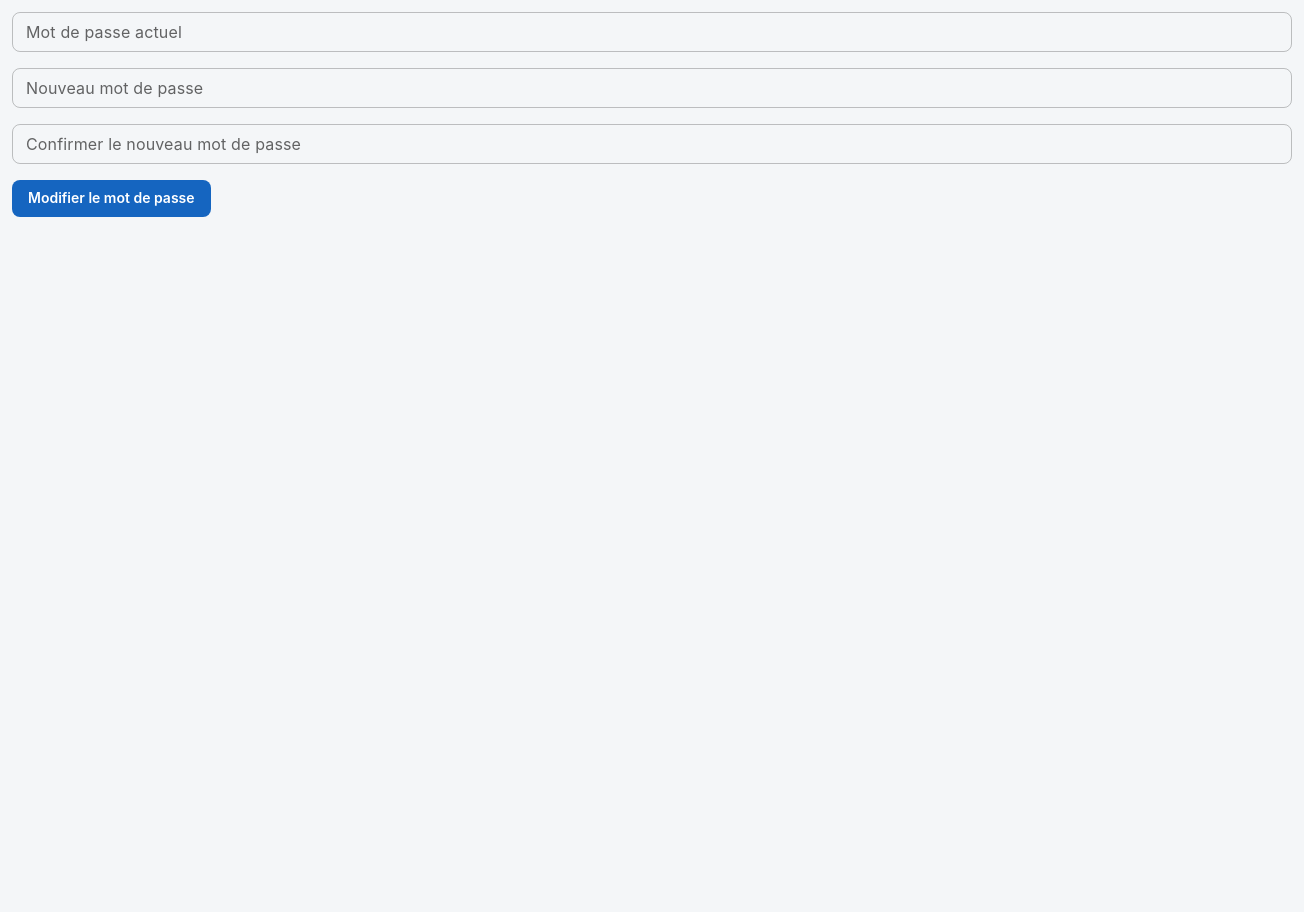
ChangePasswordForm › submits the current and new password, then resets the form on success
Type "OldPassword123" into the password field labelled "Mot de passe actuel" at (652, 32), box x1=12 y1=12 x2=1292 y2=52
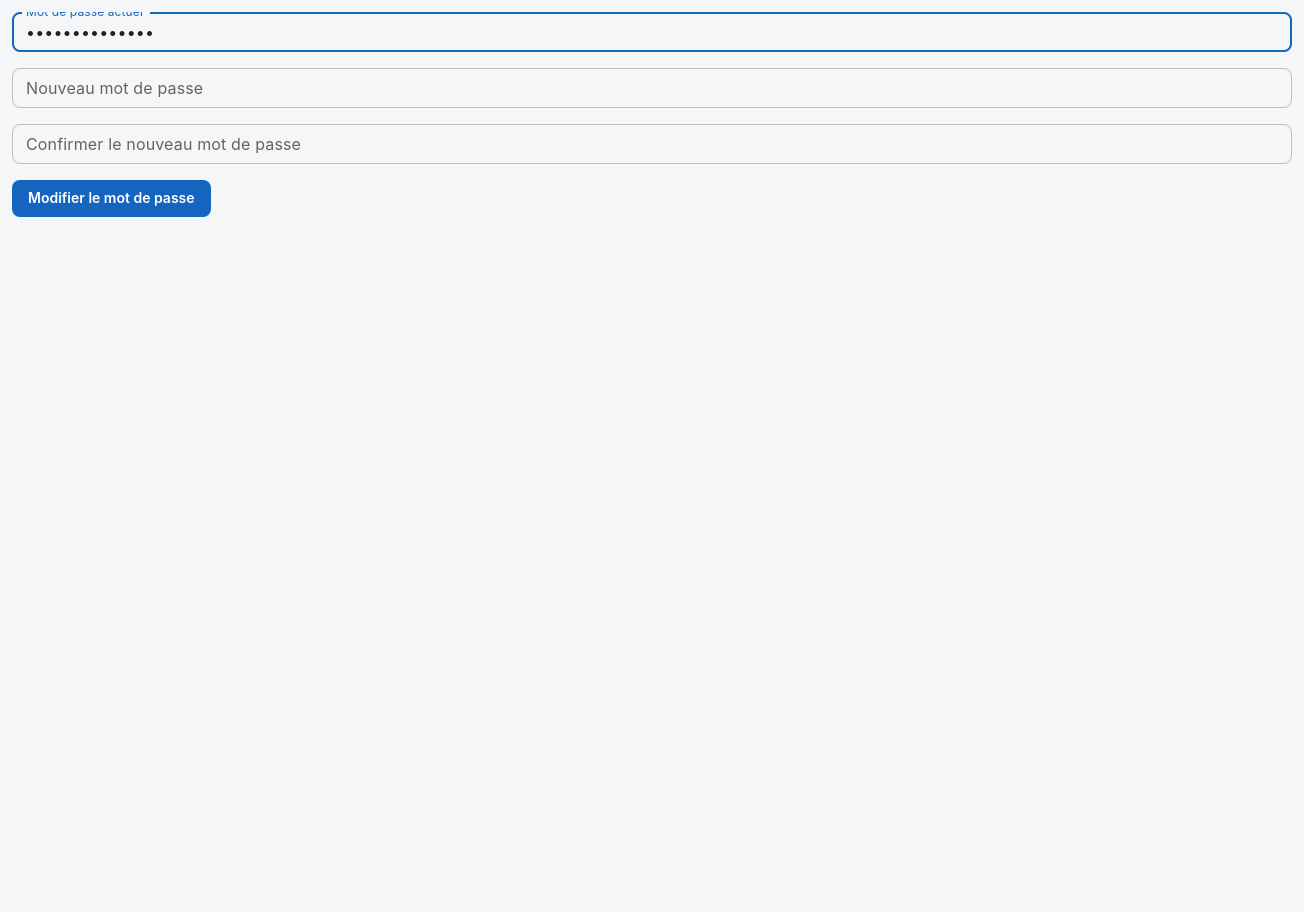
Type "NewValidPassword123" into the password field labelled "Nouveau mot de passe" at (652, 88), box x1=12 y1=68 x2=1292 y2=108
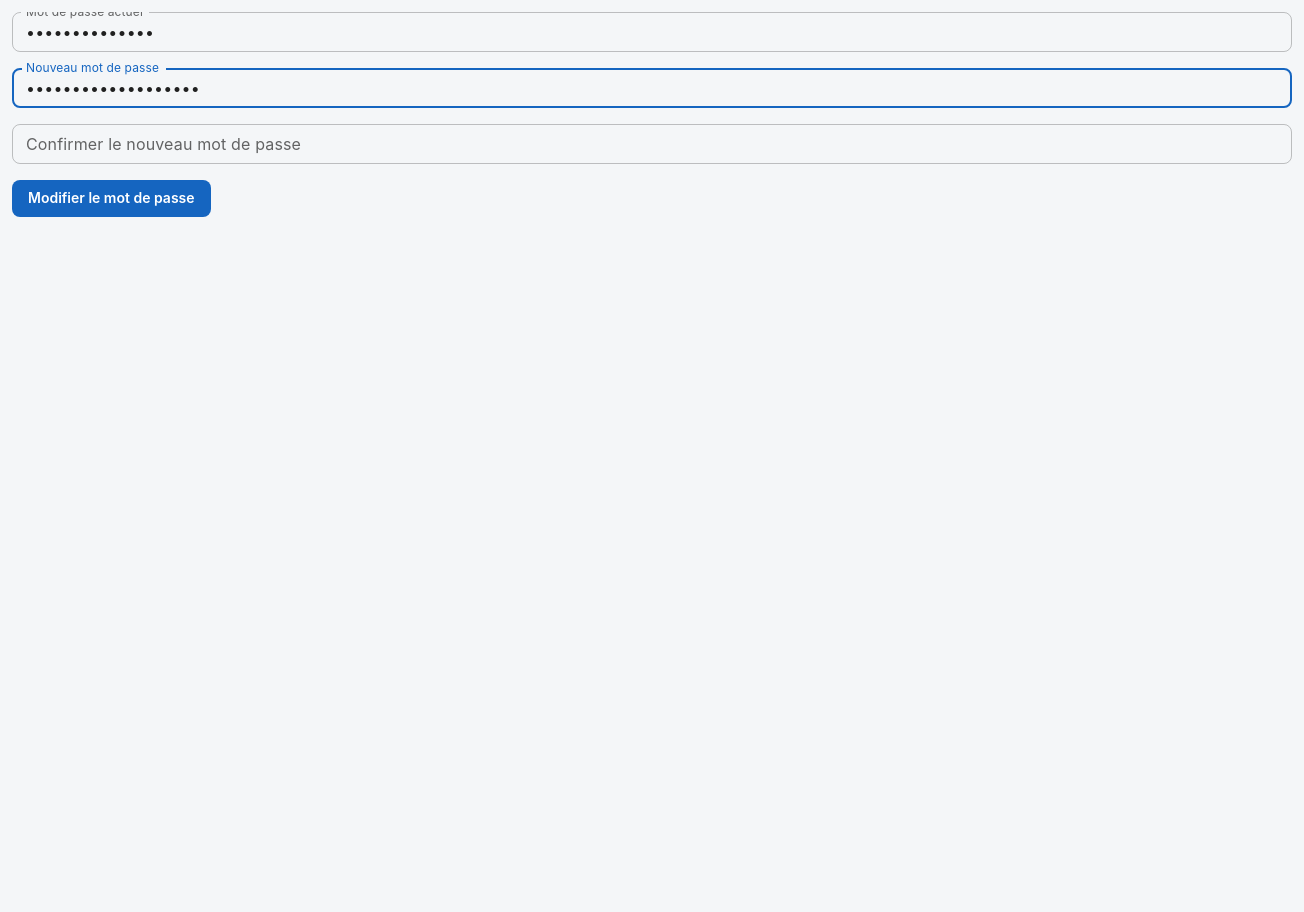
Type "NewValidPassword123" into the password field labelled "Confirmer le nouveau mot de passe" at (652, 144), box x1=12 y1=124 x2=1292 y2=164
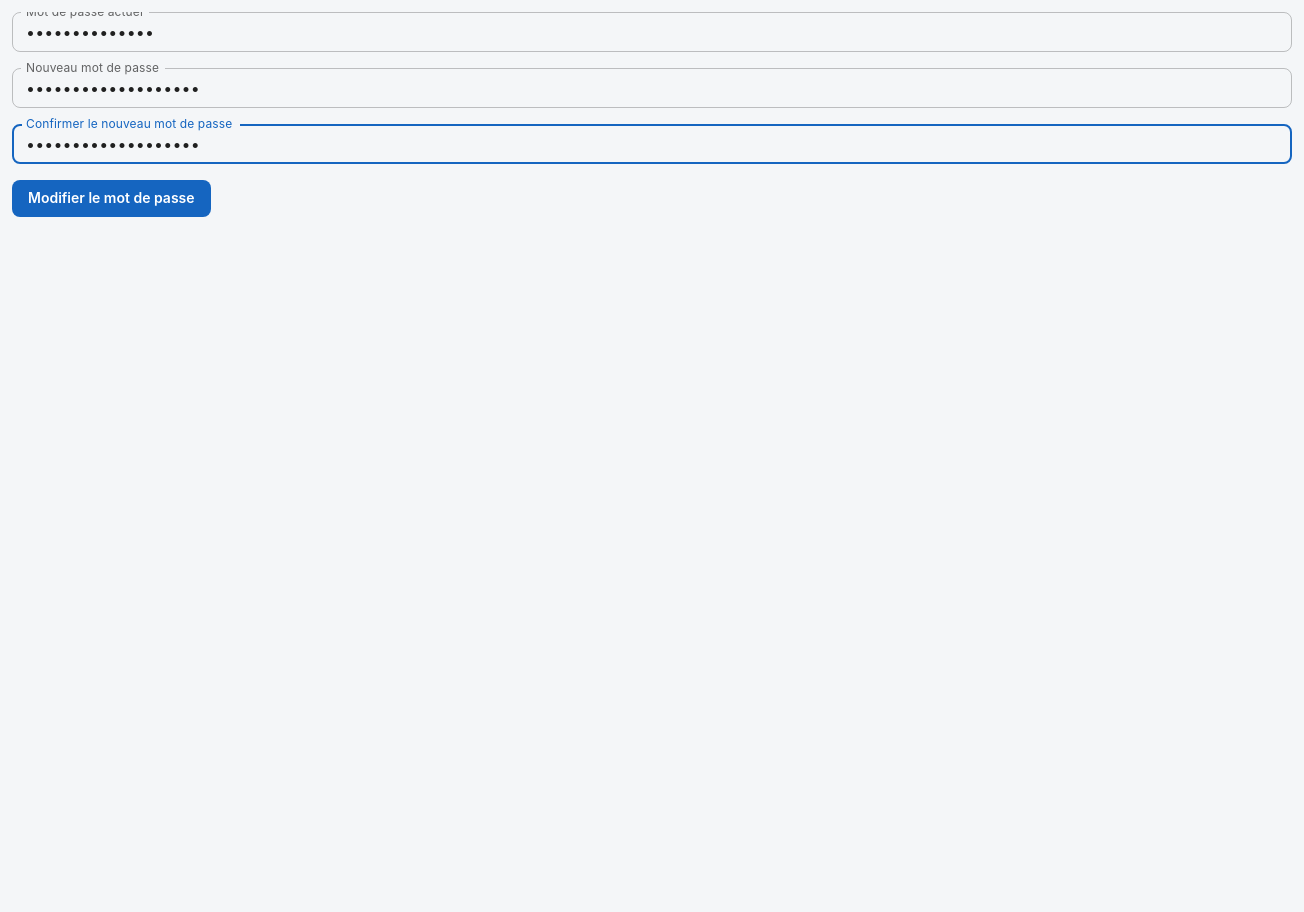
Click the button "Modifier le mot de passe" at (111, 198), box x1=12 y1=180 x2=211 y2=216
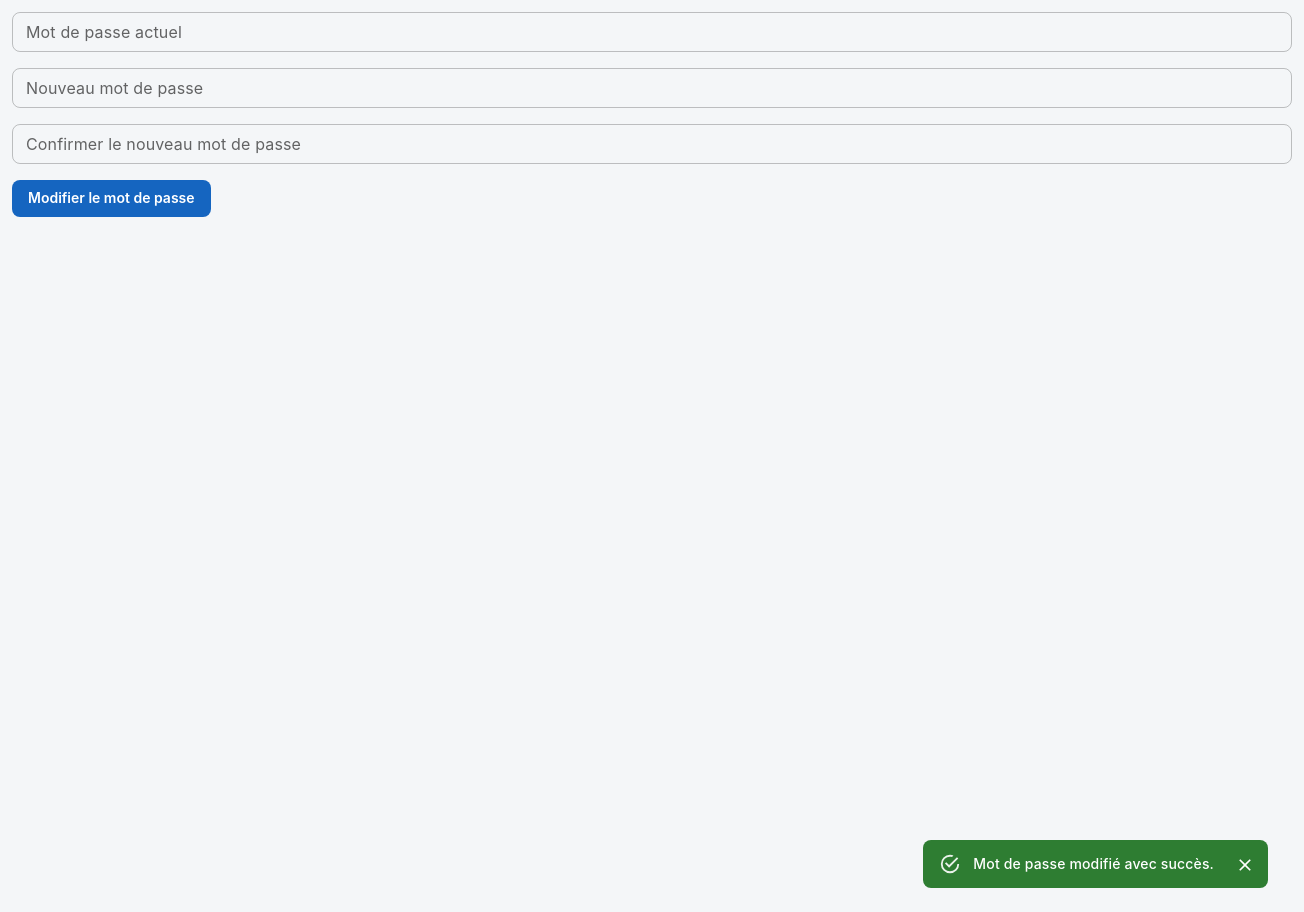
Expected: the text "Mot de passe modifié avec succès." is shown, x1=973 y1=855 x2=1214 y2=872
Expected: the password field labelled "Mot de passe actuel" is empty, x1=12 y1=12 x2=1292 y2=52
